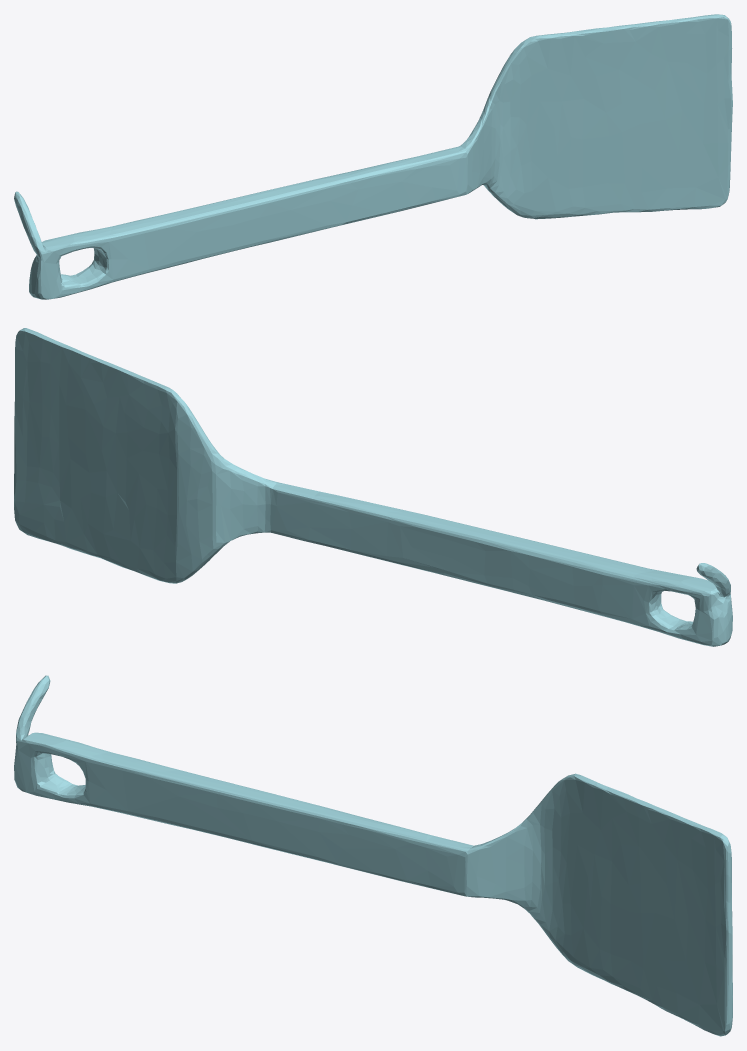
The model's file is spatula.obj.
The picture shows the model from 3 angles, top to bottom: view 1: azimuth 30°, elevation 25°; view 2: azimuth 150°, elevation 25°; view 3: azimuth 330°, elevation 25°; orthographic projection. The views are drawn at different scales.
Visible parts, largest first — view 1: geometry_0; view 2: geometry_0; view 3: geometry_0.
Part boxes in pixels (x1,y1,x2,y2): geometry_0: [14, 14, 732, 299]; geometry_0: [14, 328, 732, 646]; geometry_0: [14, 675, 732, 1036].
Bounding box in the file's own units: 0.3497 × 0.0935 × 0.0316.
